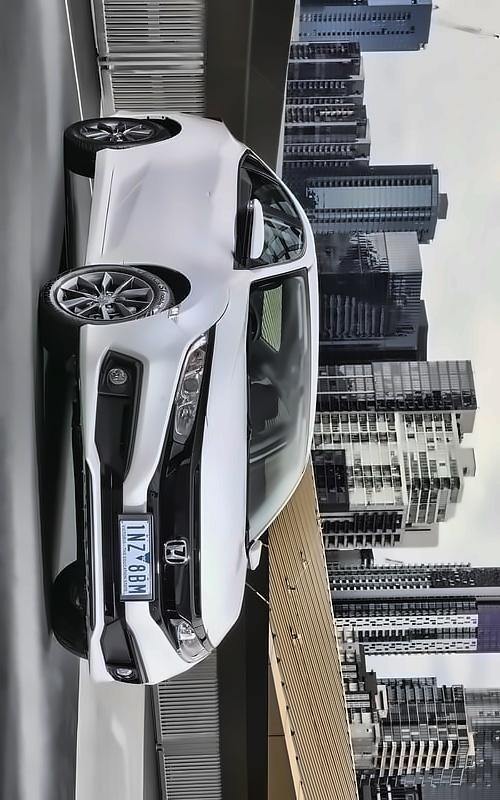Car hood: (197, 276, 250, 651)
Driver-s door - -F-R-: (96, 201, 324, 273)
Fender - -F-R-: (109, 240, 260, 359)
Fender - -R-R-: (125, 100, 273, 165)
Front bumper: (66, 308, 188, 690)
Headlight - -L-: (154, 614, 213, 666)
Headlight - -R-: (164, 326, 217, 480)
Passenger-s door - -R-R-: (106, 146, 304, 221)
Rear bumper: (95, 96, 179, 124)
Side bumper - -R-: (76, 141, 137, 282)
Side mirror - -L-: (246, 535, 267, 574)
Side mirror - -R-: (236, 194, 263, 279)
